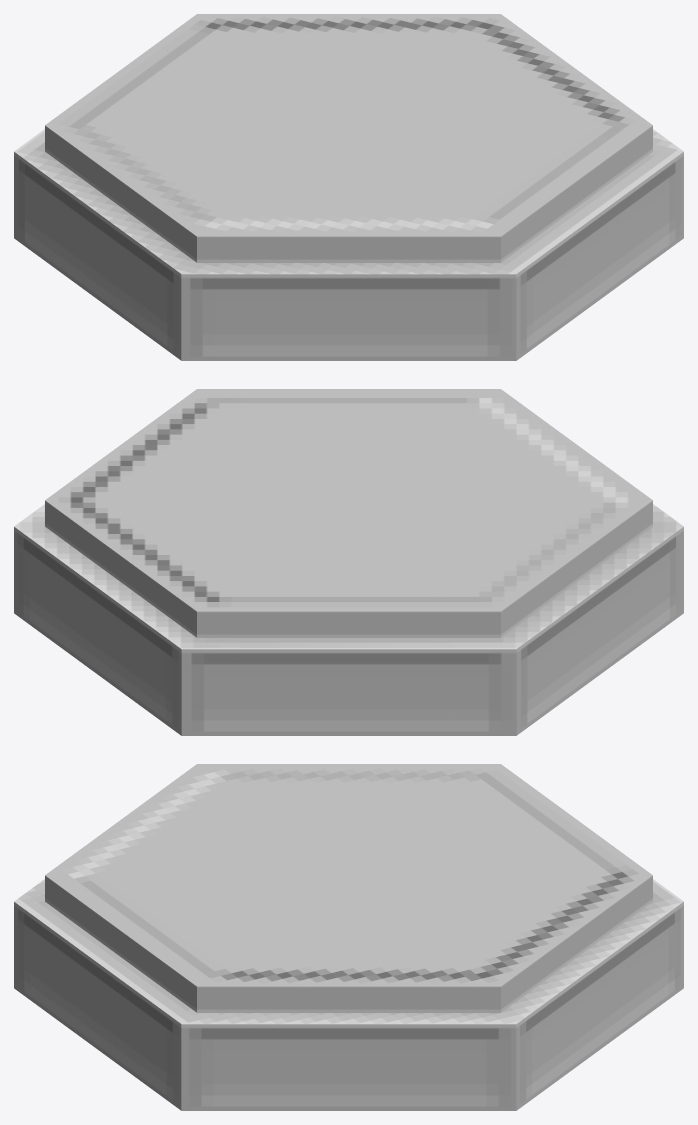
File: stand.fbx
The picture shows the model from 3 angles, top to bottom: view 1: azimuth 30°, elevation 25°; view 2: azimuth 150°, elevation 25°; view 3: azimuth 270°, elevation 25°; orthographic projection.
Parts seen in each view (by area): view 1: Podium; view 2: Podium; view 3: Podium.
Boxes of the visible parts, x1,y1,x2,y2 form: Podium: (14, 14, 683, 360); Podium: (14, 389, 683, 735); Podium: (14, 764, 683, 1110).
Size of the model in its own units: 133 by 28.66 by 154.
